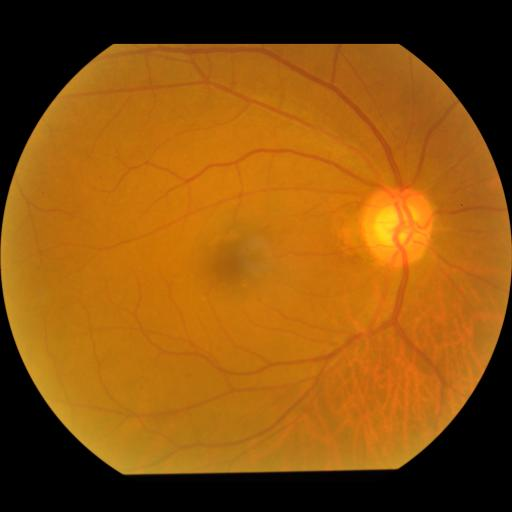Optic Cup: (375, 204, 418, 247)
Optic Disc: (361, 186, 433, 268)
